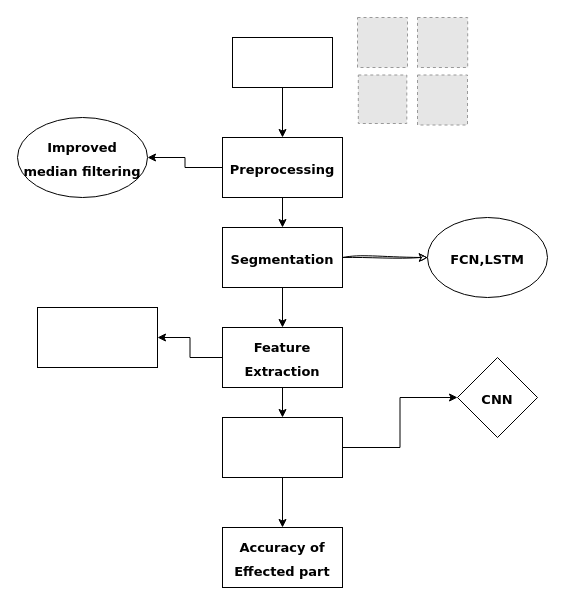
Image size: 565x605. Some labels were removed from this diagram. Grey dashed boxes stand in for pictures. The box of each missing label's shape, as (x1, y1, x2, y2) in pixels:
Classification: (222, 416, 342, 478)
Dataset: (232, 36, 332, 88)
Tumor size,Median binary pattern: (36, 306, 158, 368)
